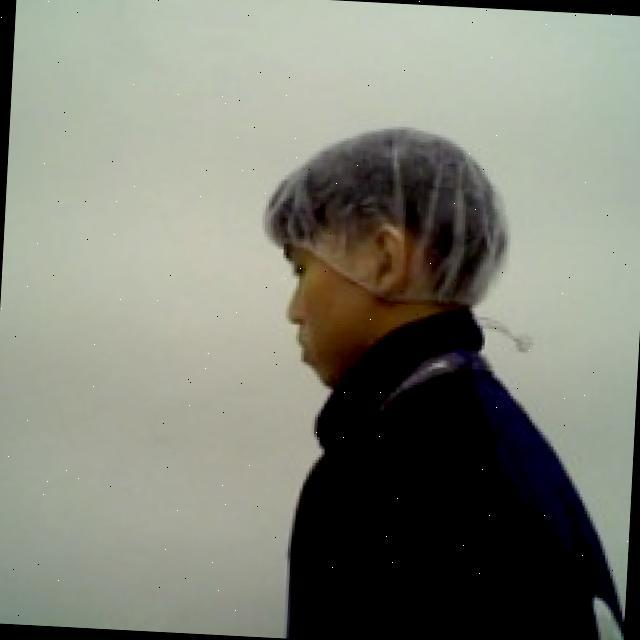gloves: (253, 112, 522, 315)
no_hairnet: (272, 214, 414, 405)
